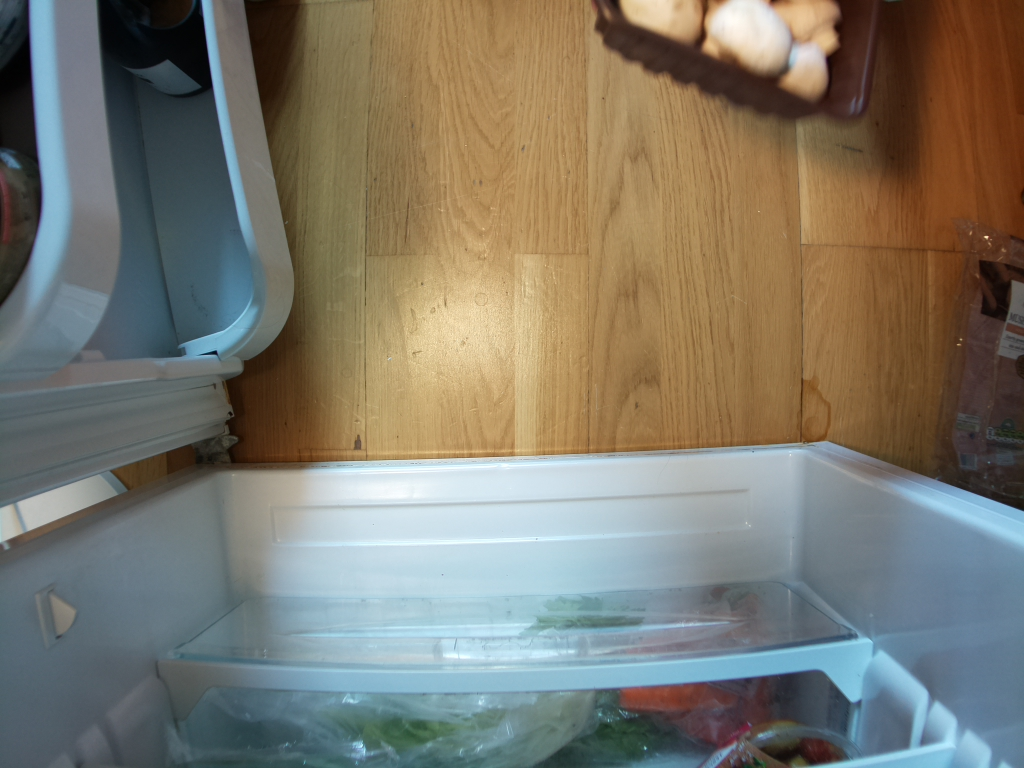mushrooms: (587, 1, 892, 135)
